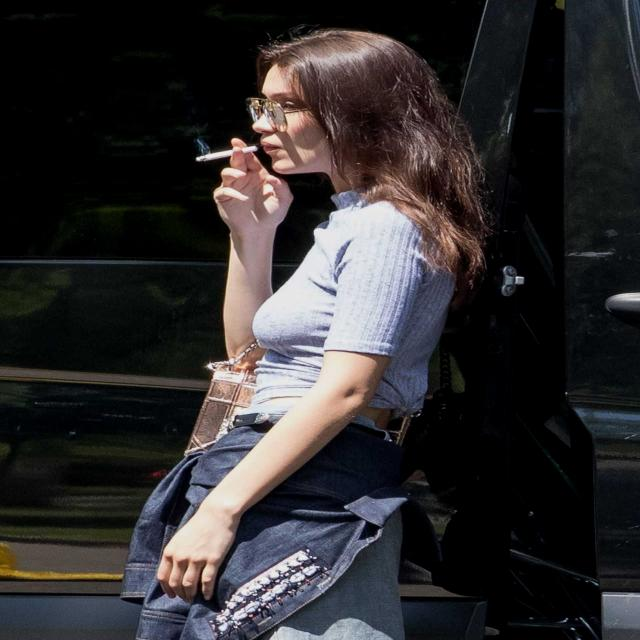Smooking: (180, 118, 280, 182)
